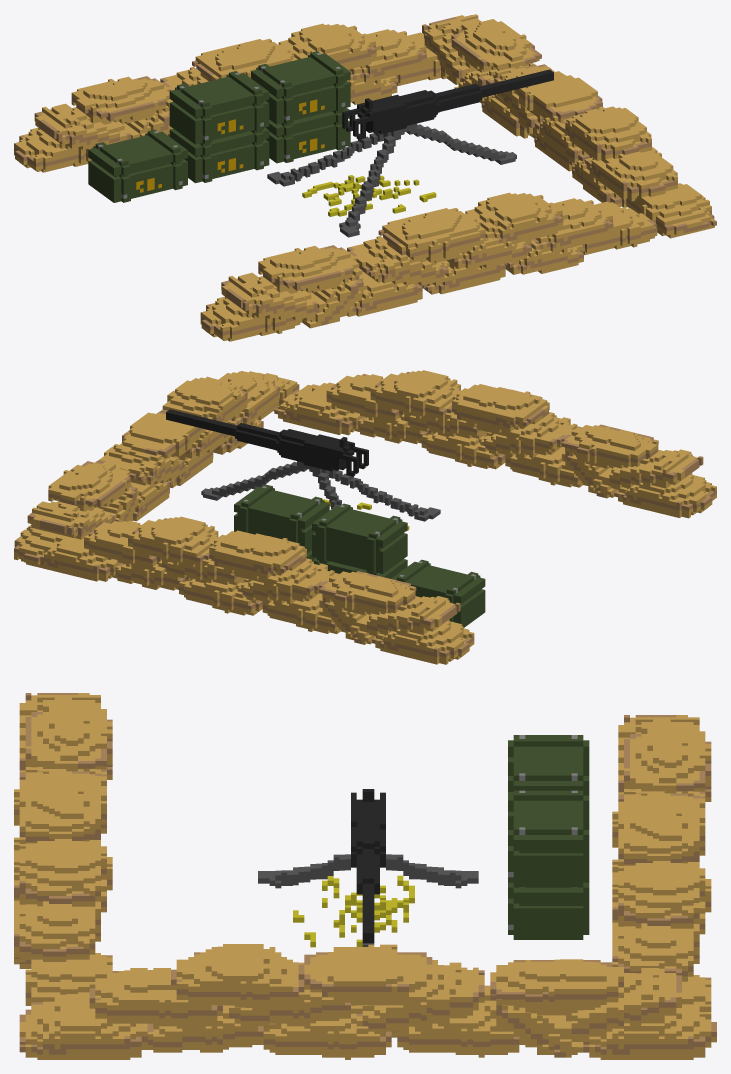
The model's file is mitrailleuse_v1_turret.vox.obj.
The picture shows the model from 3 angles, top to bottom: view 1: azimuth 30°, elevation 25°; view 2: azimuth 150°, elevation 25°; view 3: azimuth 270°, elevation 25°; orthographic projection. The views are drawn at different scales.
Bounding box in the file's own units: 13.4 × 2.4 × 12.1.
Materials: 1 (1 with a texture image).
